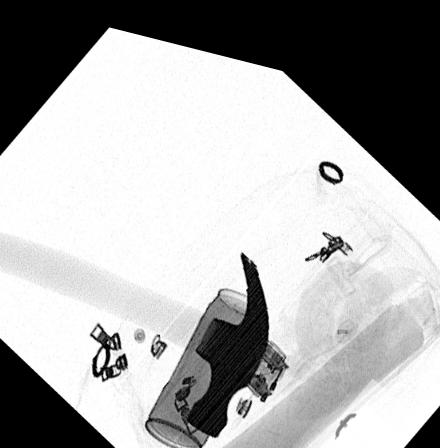Hammer: (0, 229, 270, 426)
